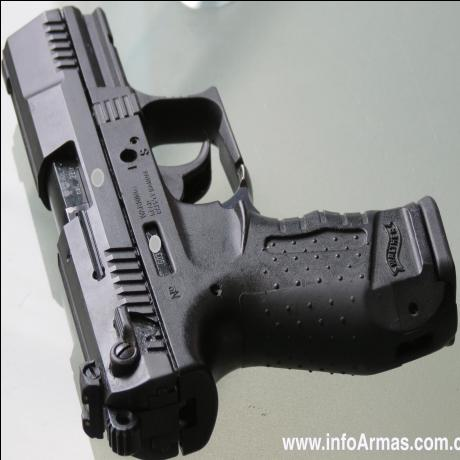weapon: (3, 2, 453, 440)
